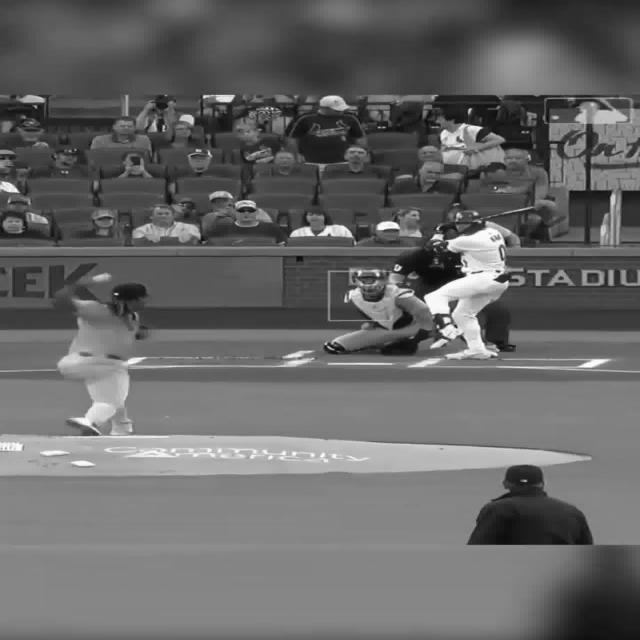base: (324, 362, 396, 367)
baseball: (93, 274, 114, 282)
baseball_glove: (380, 338, 417, 358), (137, 327, 148, 342)
bat: (481, 204, 541, 220)
shoe: (64, 417, 106, 438), (429, 330, 458, 351), (445, 349, 490, 362), (110, 422, 134, 438)
